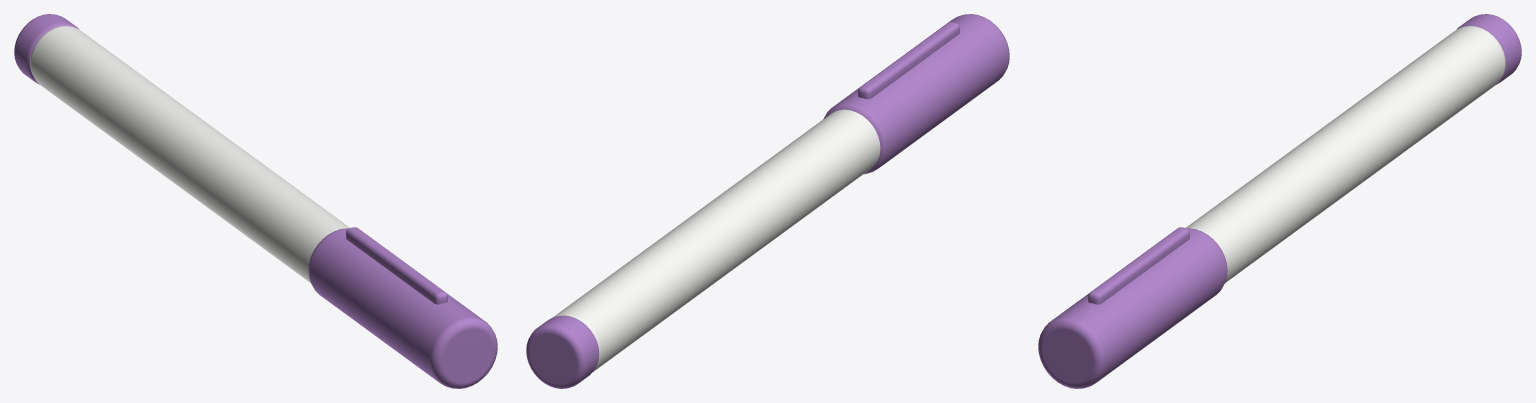
The model's file is inst.skin_marker.fbx.
3 renders of one model, left to right at view 1: azimuth 30°, elevation 25°; view 2: azimuth 150°, elevation 25°; view 3: azimuth 330°, elevation 25°, orthographic.
Visible parts, largest first — view 1: Body, Cap, CapClip, EndPlug; view 2: Body, Cap, EndPlug, CapClip; view 3: Body, Cap, CapClip, EndPlug.
Boxes of the visible parts, box(x1,y1,x2,y2) form: Body: box(30, 26, 349, 282); Cap: box(308, 228, 497, 388); CapClip: box(346, 227, 447, 304); EndPlug: box(14, 14, 79, 84); Body: box(553, 109, 880, 371); Cap: box(823, 14, 1009, 174); EndPlug: box(526, 315, 599, 388); CapClip: box(858, 22, 959, 99); Body: box(1186, 26, 1505, 282); Cap: box(1038, 228, 1227, 388); CapClip: box(1088, 227, 1189, 304); EndPlug: box(1456, 14, 1521, 84).
Bounding box in the file's own units: 0.0124 × 0.0141 × 0.138.
